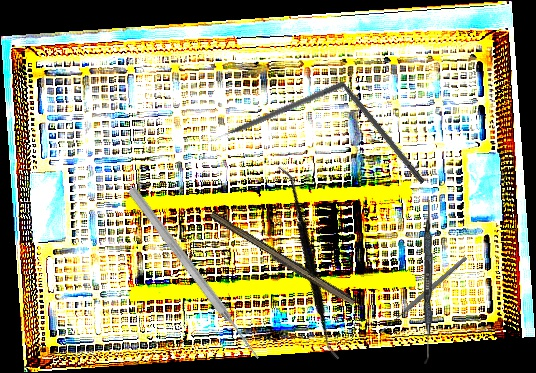Hook Surgical: (325, 63, 427, 185)
Pusher: (125, 185, 264, 363), (205, 79, 347, 145)
Scalpel Handle: (206, 210, 358, 309)
Spatula Surgical: (209, 164, 408, 362), (421, 199, 435, 365)
Surgical Spoon: (378, 255, 468, 335)
